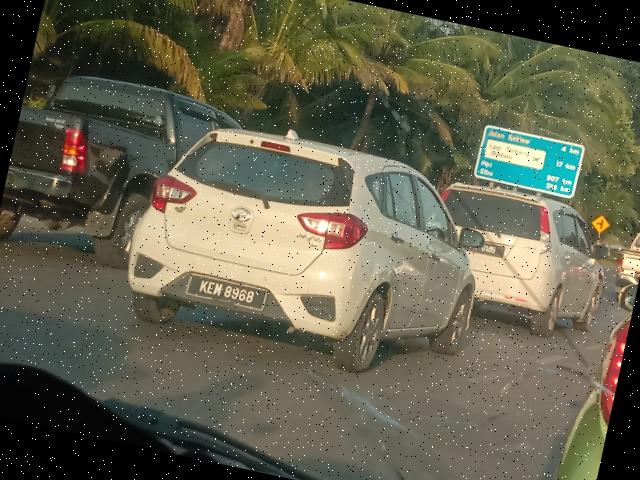License_Plate: (187, 274, 268, 314)
car: (115, 102, 501, 392), (401, 157, 629, 350)
